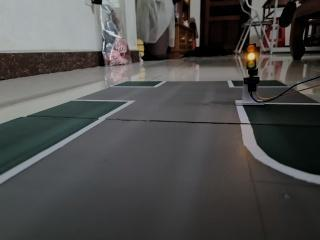yellow: (241, 40, 263, 77)
